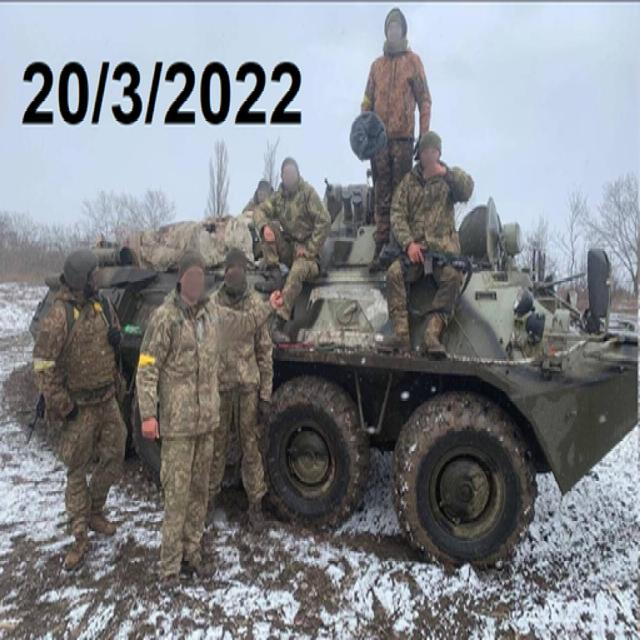APC-IFV: (34, 154, 636, 574)
